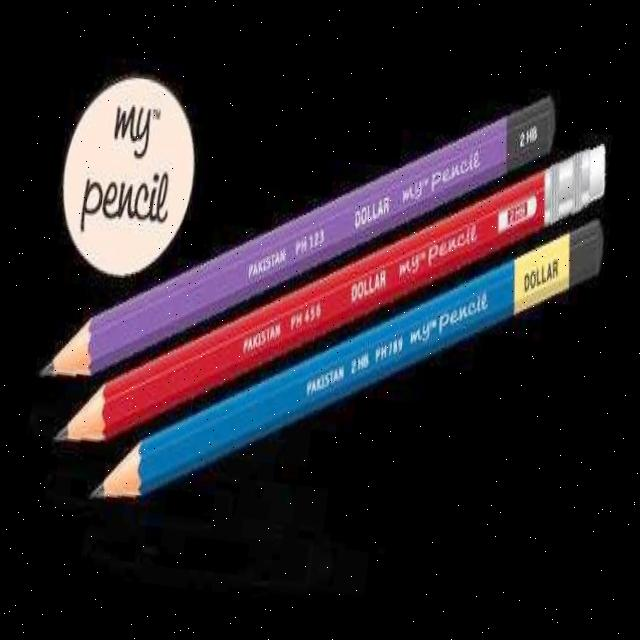pencil: (46, 132, 613, 476), (32, 74, 569, 399), (83, 208, 615, 528)
